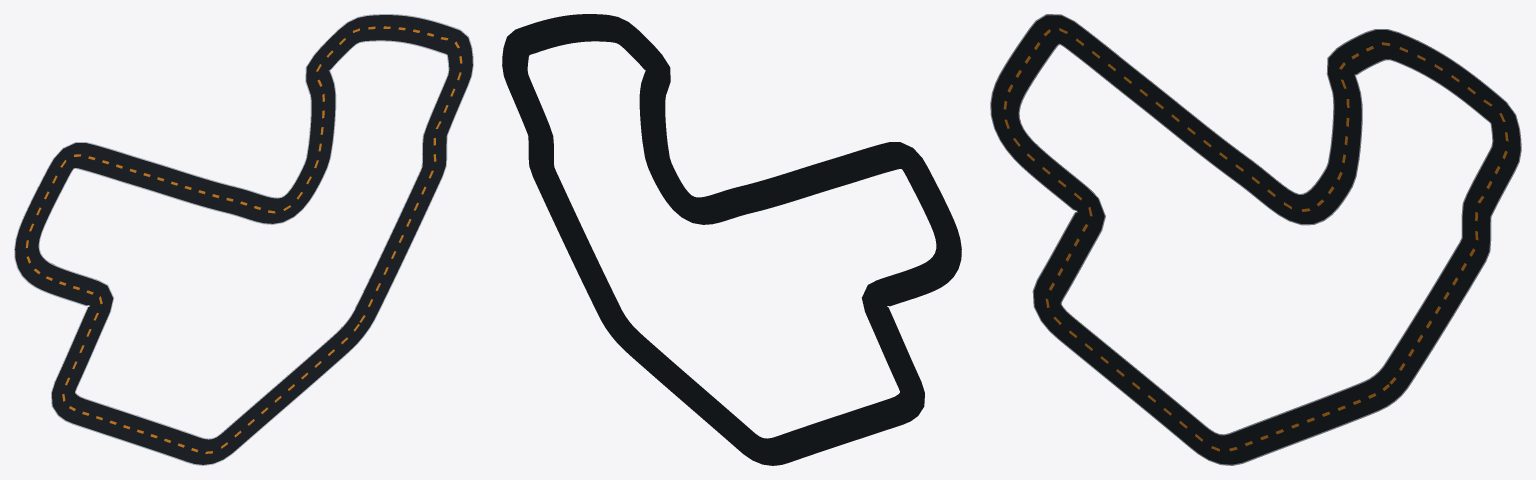
File: track.obj
3 renders of one model, left to right at view 1: azimuth 30°, elevation 25°; view 2: azimuth 150°, elevation 25°; view 3: azimuth 330°, elevation 25°, orthographic. The views are drawn at different scales.
Bounding box in the file's own units: 19.2 × 16.46 × 0.002.
